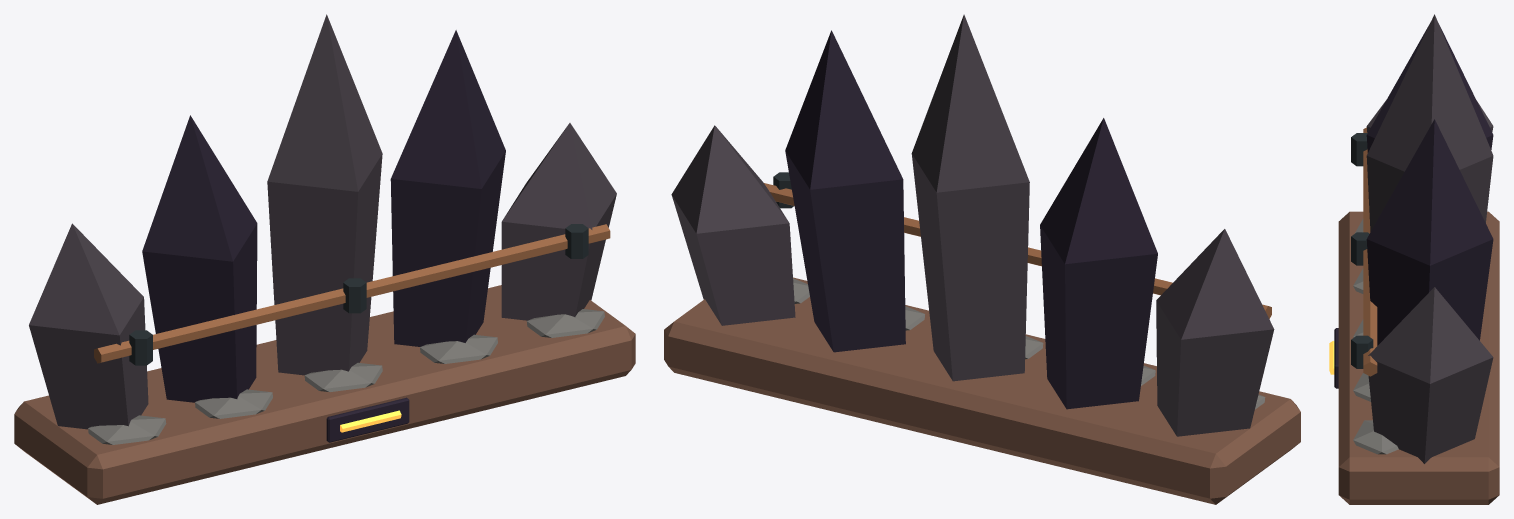
The model's file is rift_obsidian_barricade.glb.
3 views of the same model, side by side, from view 1: azimuth 30°, elevation 25°; view 2: azimuth 150°, elevation 25°; view 3: azimuth 270°, elevation 25° (orthographic). The views are drawn at different scales.
Visible parts, largest first — view 1: rift_obsidian_barricade; view 2: rift_obsidian_barricade; view 3: rift_obsidian_barricade.
Boxes of the visible parts, left/top/right/bottom form: rift_obsidian_barricade: left=14, top=14, right=635, bottom=504; rift_obsidian_barricade: left=664, top=14, right=1300, bottom=504; rift_obsidian_barricade: left=1329, top=14, right=1499, bottom=504.
Size of the model in its own units: 2.09 by 1.33 by 0.5504.
